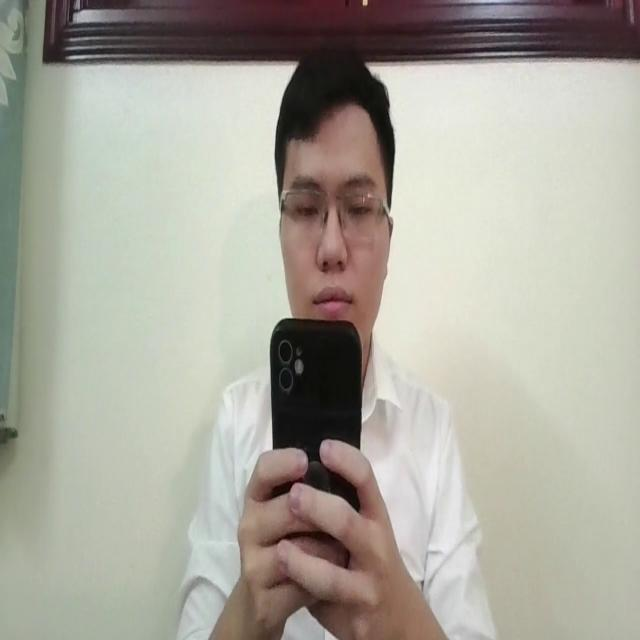phone: (269, 310, 366, 575)
student: (170, 33, 497, 640)
